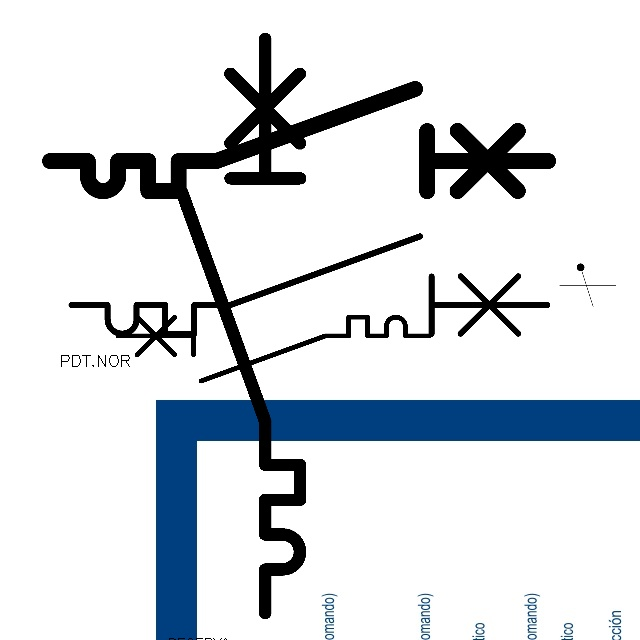interruptor_termomagnetico: (167, 24, 315, 628), (37, 76, 561, 204), (59, 224, 559, 346), (110, 309, 437, 389)
